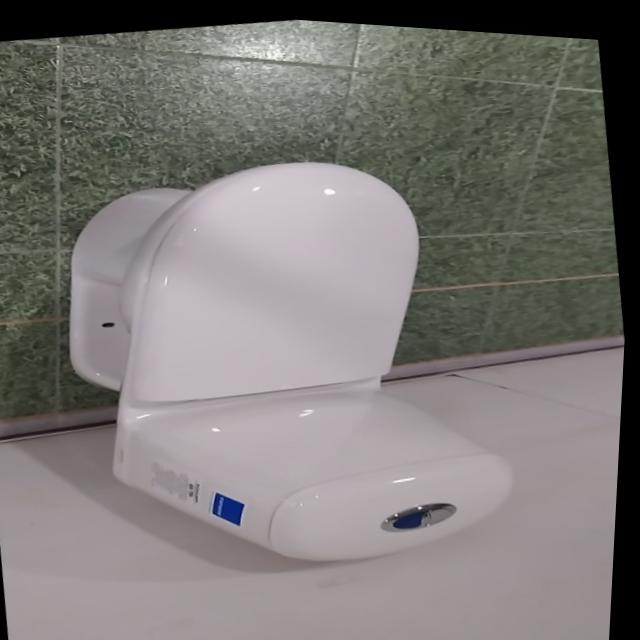toilet: (41, 118, 543, 602)
